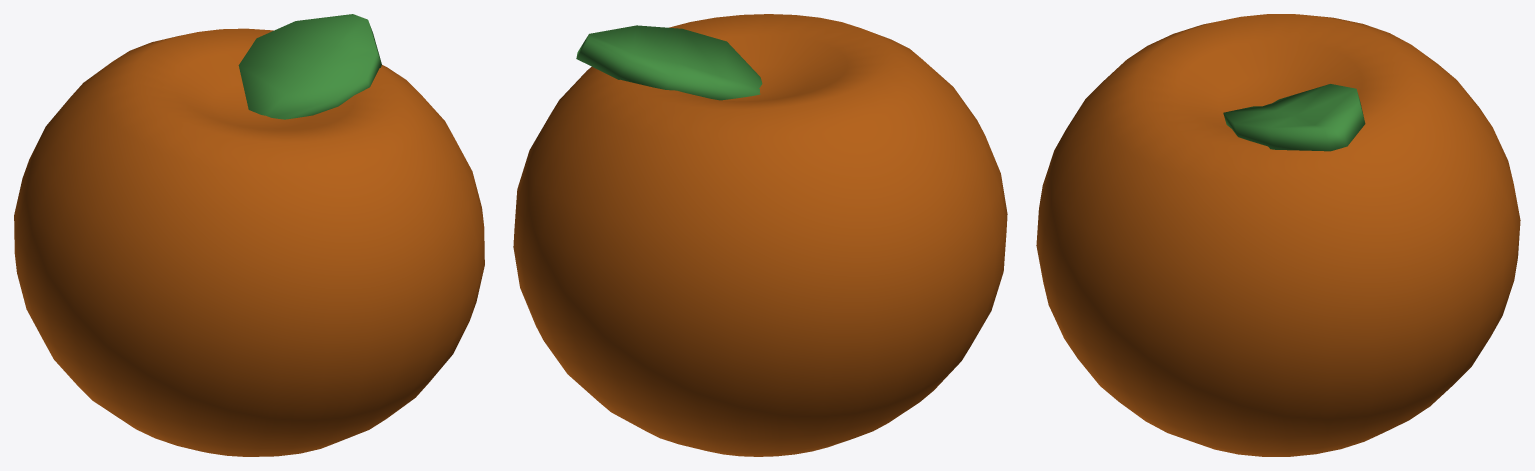
Rendered from Orange_Item 1.fbx.
3 views of the same model, side by side, from view 1: azimuth 30°, elevation 25°; view 2: azimuth 150°, elevation 25°; view 3: azimuth 270°, elevation 25° (orthographic). The views are drawn at different scales.
Parts seen in each view (by area): view 1: Orange; view 2: Orange; view 3: Orange.
Part boxes in pixels (box(x1,y1,x2,y2)): Orange: box(14, 14, 484, 456); Orange: box(513, 14, 1007, 456); Orange: box(1036, 14, 1520, 456).
Bounding box in the file's own units: 199 × 169 × 200.
